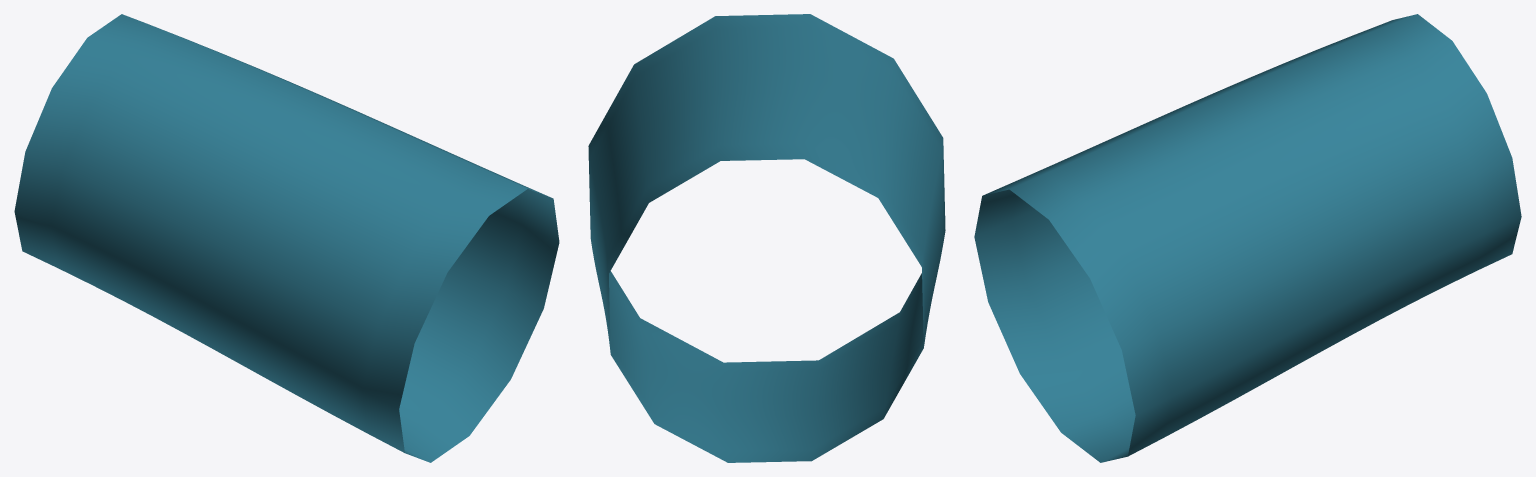
The picture shows the model from 3 angles, left to right: view 1: azimuth 30°, elevation 25°; view 2: azimuth 150°, elevation 25°; view 3: azimuth 270°, elevation 25°; orthographic projection. The views are drawn at different scales.
Parts seen in each view (by area): view 1: 右主支气管; view 2: 右主支气管; view 3: 右主支气管.
Boxes of the visible parts, bbox=[...] form: 右主支气管: bbox=[14, 14, 559, 462]; 右主支气管: bbox=[588, 14, 945, 462]; 右主支气管: bbox=[974, 14, 1521, 462].
Bounding box in the file's own units: 0.0393 × 0.0309 × 0.0452.
